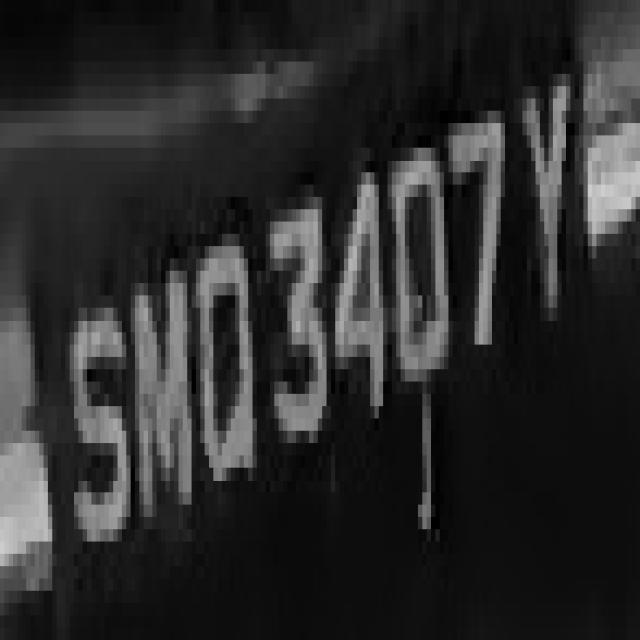0: (392, 111, 448, 431)
3: (266, 185, 335, 492)
4: (322, 123, 396, 419)
7: (436, 86, 510, 443)
M: (126, 234, 192, 529)
Q: (192, 185, 261, 529)
S: (65, 283, 131, 566)
Y: (505, 74, 583, 357)
